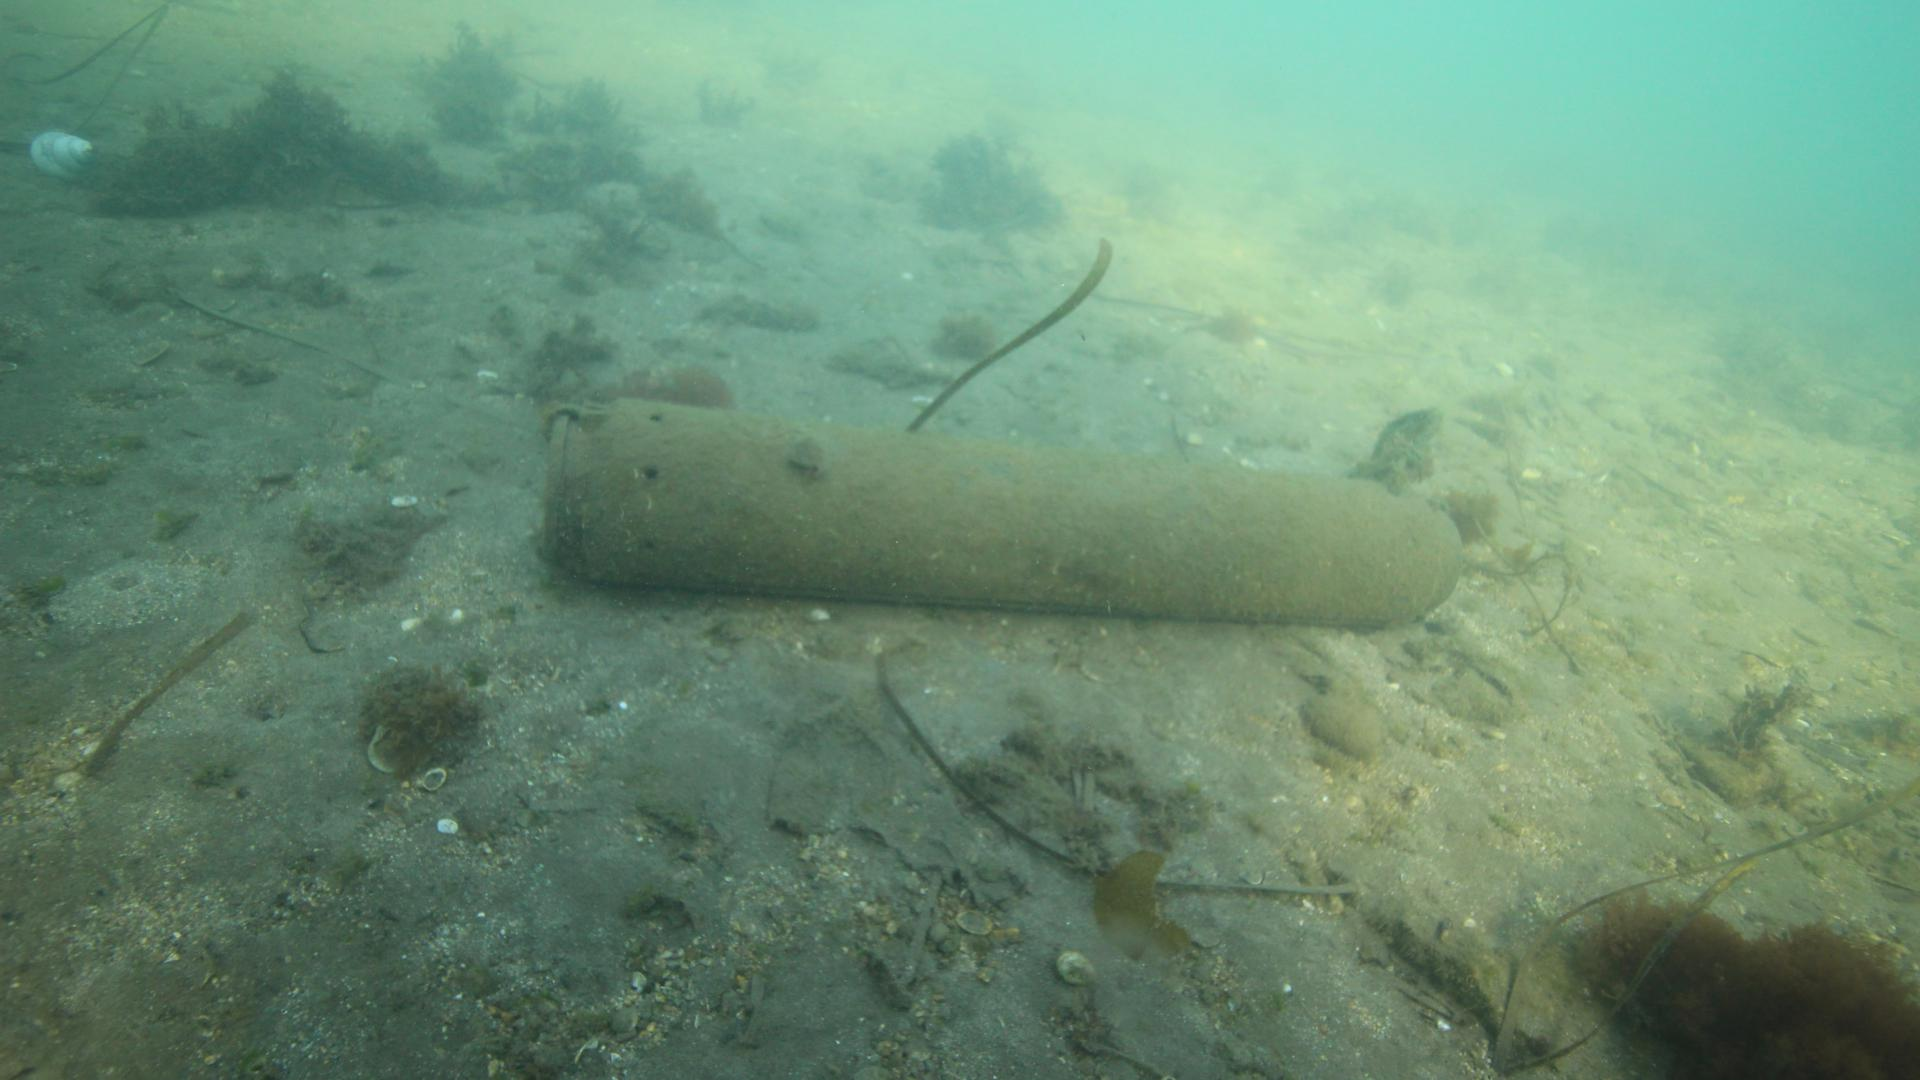eel fish trap: (535, 396, 1466, 626)
